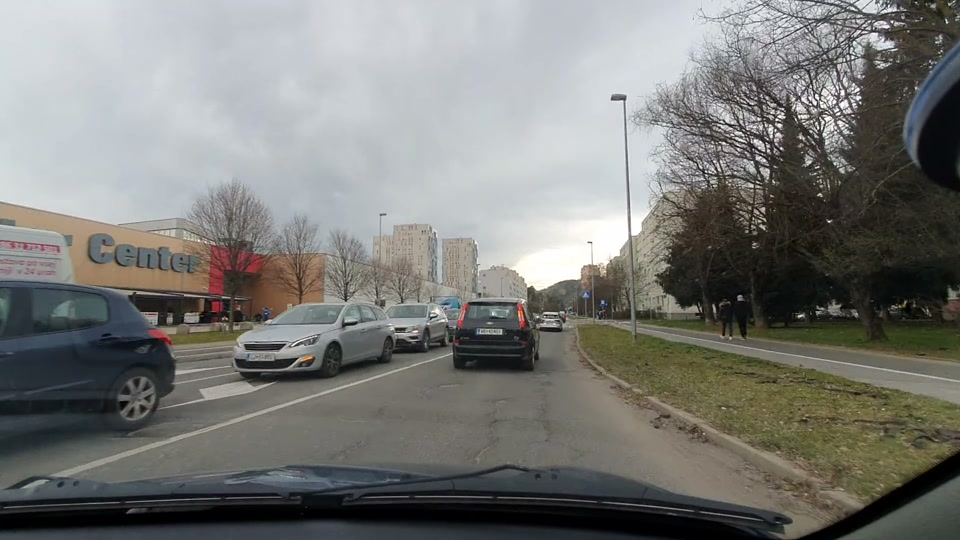vehicle_ign: (438, 292, 546, 378)
vehicle_s: (0, 270, 187, 437), (221, 284, 404, 390), (378, 298, 448, 355)
